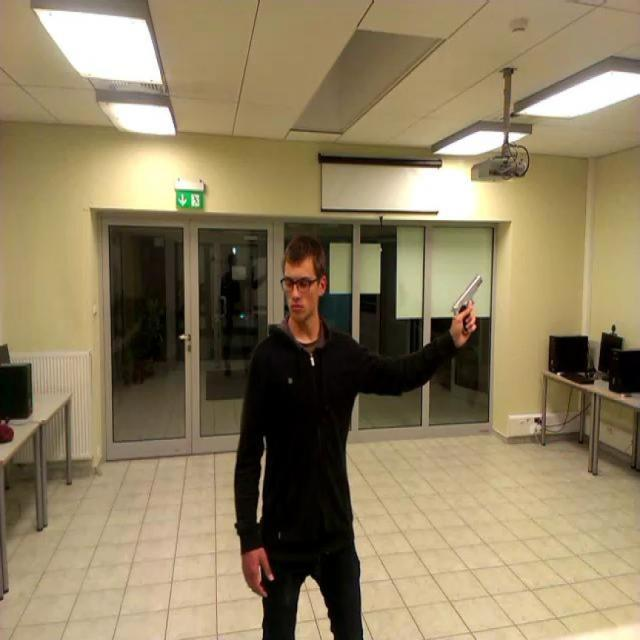pistol: (453, 274, 484, 334)
